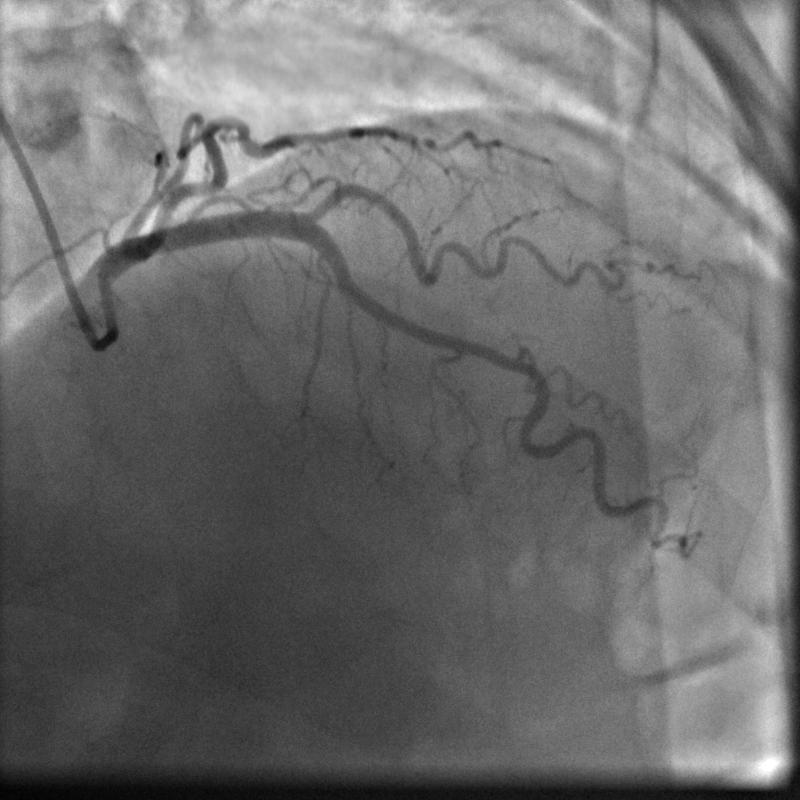Stenosis: (484, 343, 557, 380)
